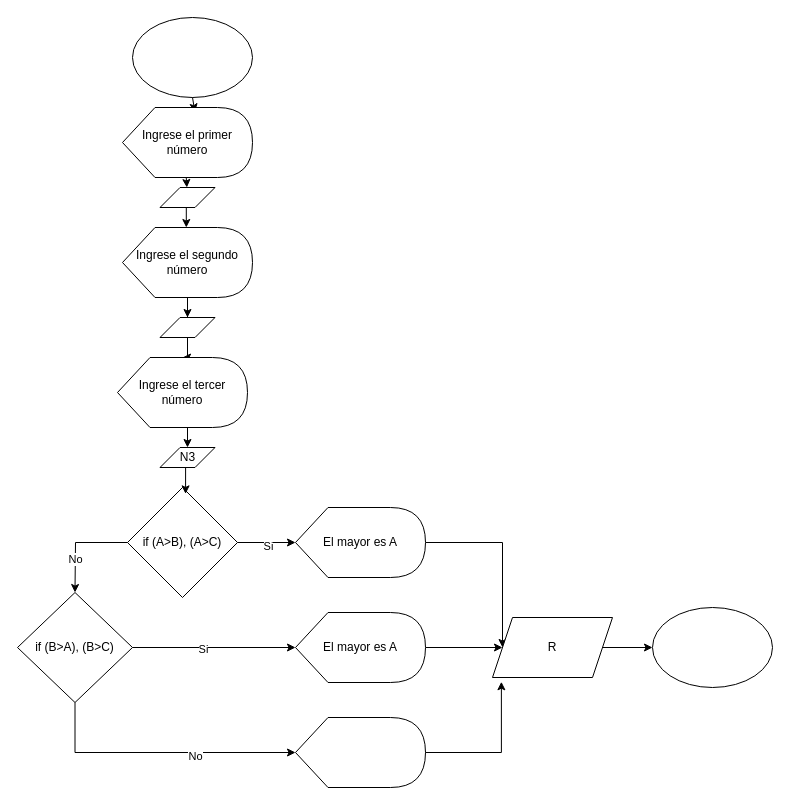
The diagram is 790 pixels wide and 805 high, and some of its shapes have lost their labels. Here are the shapes that lost their labels. From the top down, the centre of each, then its label:
At (x=192, y=57): "inicio".
At (x=187, y=197): "N1".
At (x=187, y=327): "N2".
At (x=712, y=647): "FIN".
At (x=360, y=752): "El mayor es C".
